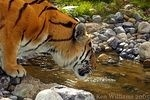tigre: (1, 1, 98, 83)
